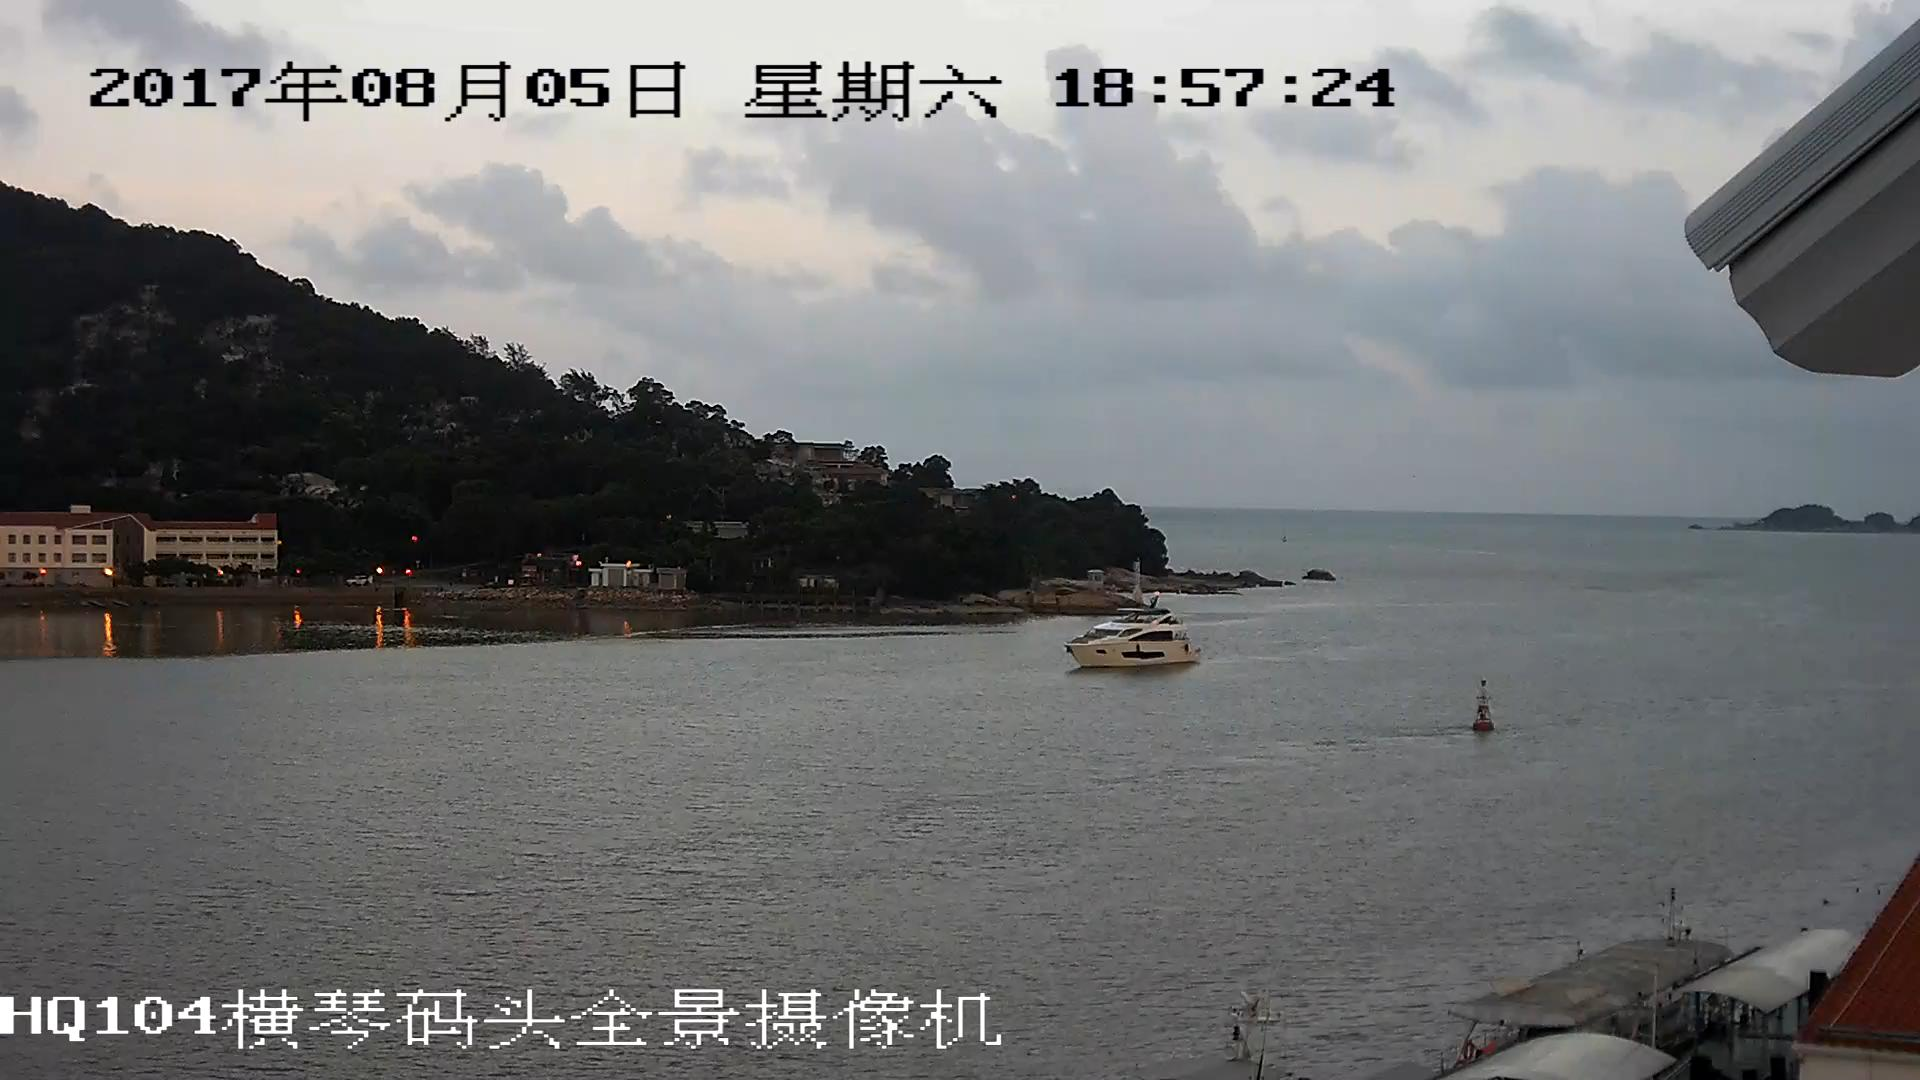passenger ship: (1064, 604, 1202, 670)
